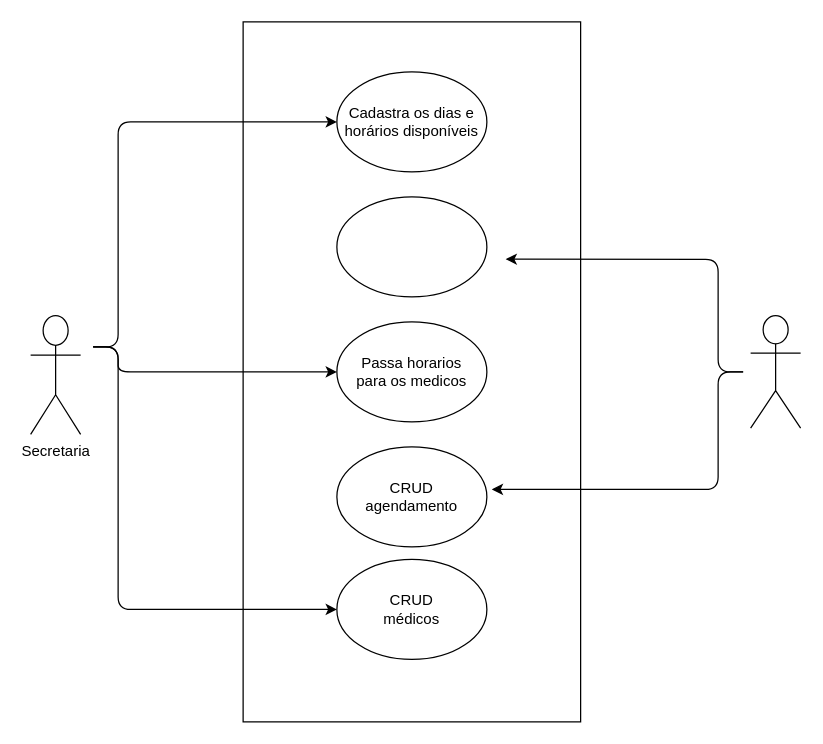
Image size: 823x744. Some labels were removed from this diagram. The shapes that lost their labels are listed below. From the top down, each one's centre as x and y in pixels, then its label:
At [411,246]: "Seleviona horario disponivel".
At [775,371]: "Cliente".
